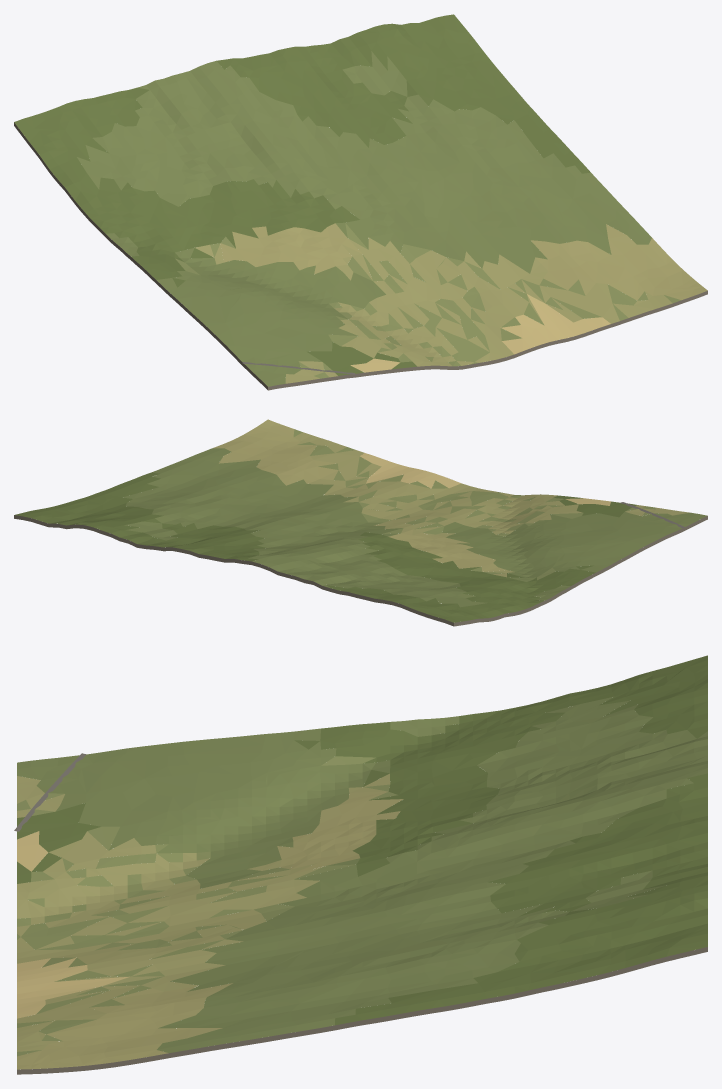
The model's file is parca_+5_-9-uzak.glb.
3 views of the same model, one above another, from view 1: azimuth 30°, elevation 25°; view 2: azimuth 150°, elevation 25°; view 3: azimuth 270°, elevation 25° (orthographic). The views are drawn at different scales.
Parts seen in each view (by area): view 1: parca_+5_-9_arazi_uzak; view 2: parca_+5_-9_arazi_uzak; view 3: parca_+5_-9_arazi_uzak.
Boxes of the visible parts, left/top/right/bottom form: parca_+5_-9_arazi_uzak: left=14, top=14, right=707, bottom=390; parca_+5_-9_arazi_uzak: left=14, top=419, right=707, bottom=626; parca_+5_-9_arazi_uzak: left=17, top=655, right=707, bottom=1074.
Bounding box in the file's own units: 1003 × 267 × 1005.
